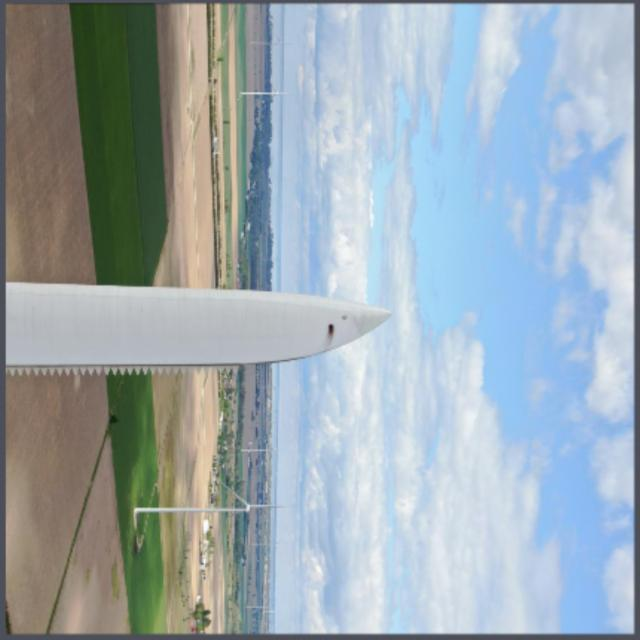Burn Mark: (318, 317, 336, 354)
